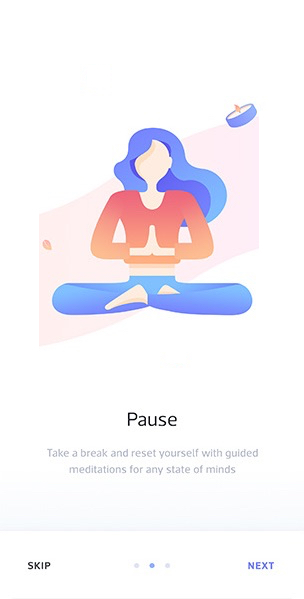Image: (39, 103, 259, 347)
PageIndicator: (134, 562, 172, 569)
Text: (47, 448, 259, 476), (128, 412, 178, 427), (248, 561, 275, 570), (28, 561, 52, 570)
